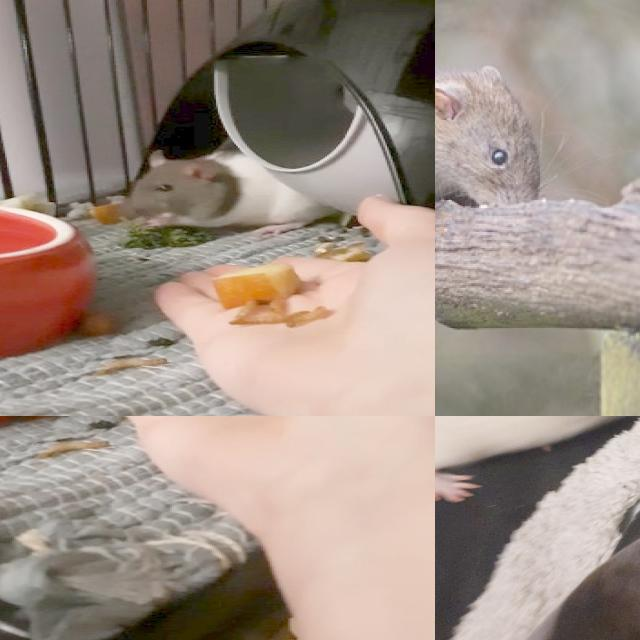rat: (435, 65, 535, 416), (435, 416, 640, 505), (120, 153, 338, 235)
